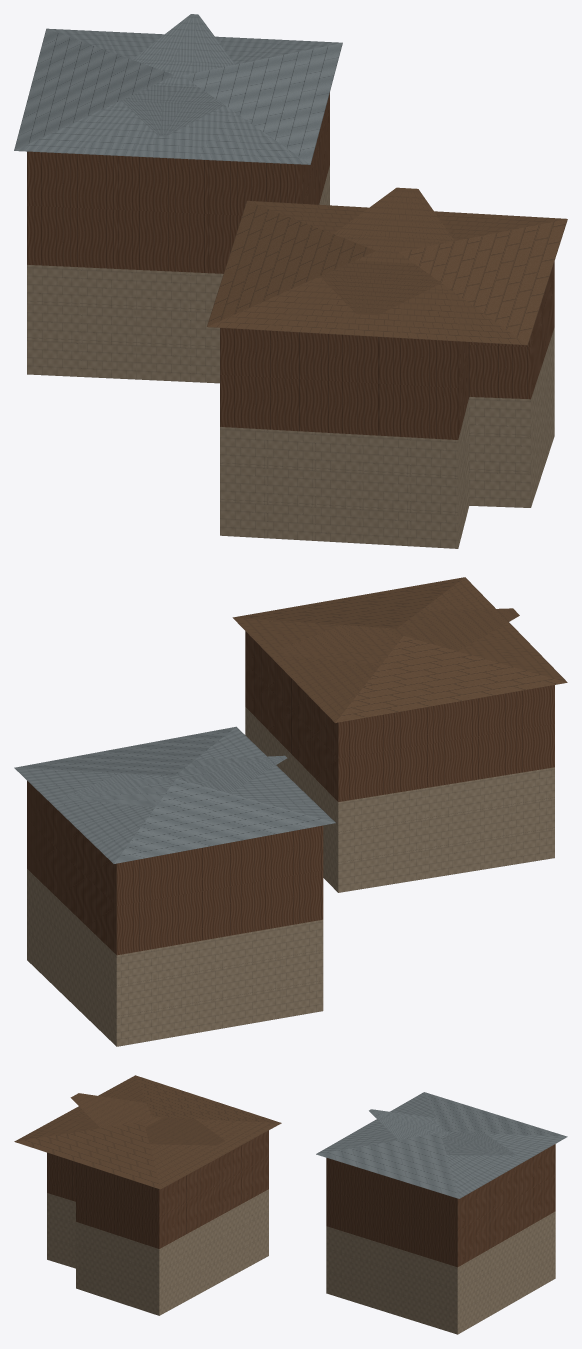
File: bld_c11_17_443.gltf
The picture shows the model from 3 angles, top to bottom: view 1: azimuth 30°, elevation 25°; view 2: azimuth 150°, elevation 25°; view 3: azimuth 270°, elevation 25°; orthographic projection. The views are drawn at different scales.
Parts seen in each view (by area): view 1: bld_c11_17_443; view 2: bld_c11_17_443; view 3: bld_c11_17_443.
Part boxes in pixels (box(x1,y1,x2,y2)): bld_c11_17_443: box(14, 14, 567, 548); bld_c11_17_443: box(14, 577, 567, 1046); bld_c11_17_443: box(14, 1075, 567, 1334).
Size of the model in its own units: 19.47 by 11.9 by 38.04.
Materials: 4 (4 with a texture image).
